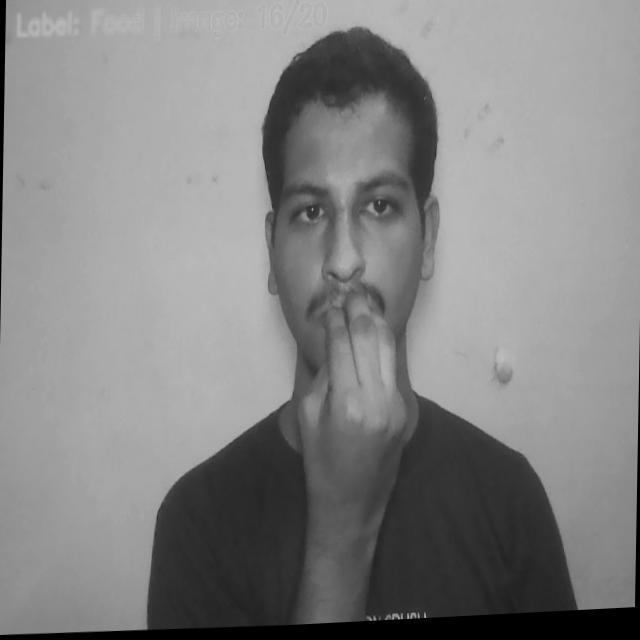Food: (286, 300, 412, 578)
